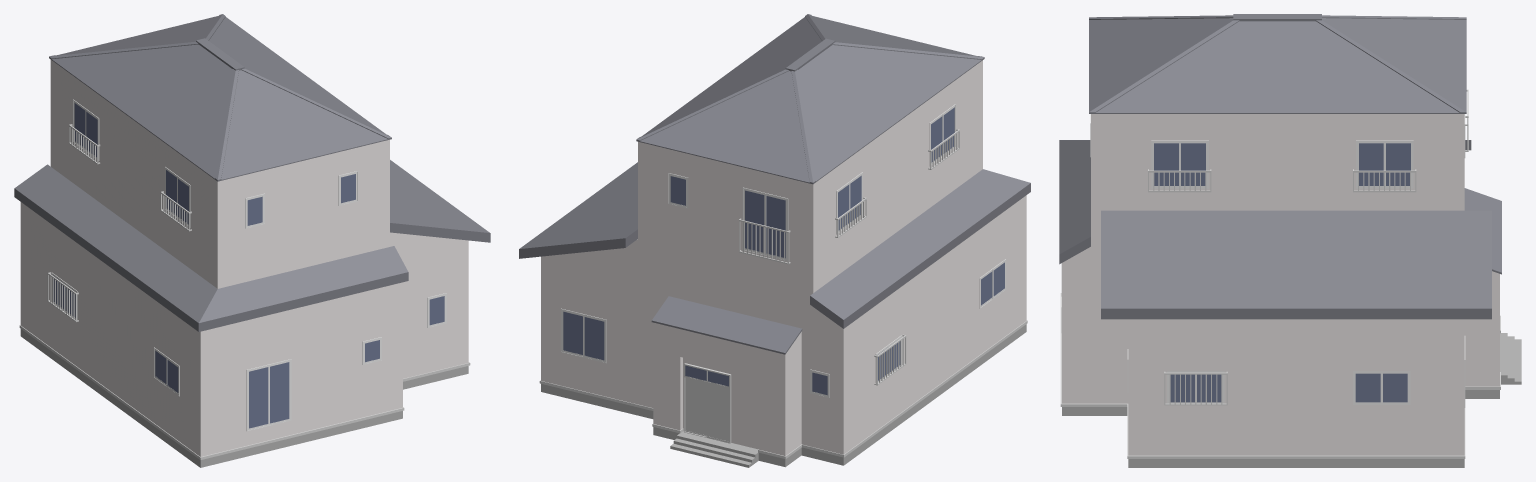
The model's file is MobHouse37.fbx.
The picture shows the model from 3 angles, left to right: view 1: azimuth 30°, elevation 25°; view 2: azimuth 150°, elevation 25°; view 3: azimuth 270°, elevation 25°; orthographic projection. The views are drawn at different scales.
Visible parts, largest first — view 1: Flat_half_house01.037; view 2: Flat_half_house01.037; view 3: Flat_half_house01.037.
Part boxes in pixels (x1=…): Flat_half_house01.037: x1=14, y1=14, x2=490, y2=467; Flat_half_house01.037: x1=519, y1=14, x2=1030, y2=467; Flat_half_house01.037: x1=1059, y1=14, x2=1521, y2=467.
Size of the model in its own units: 9.03 by 8.76 by 10.42.
